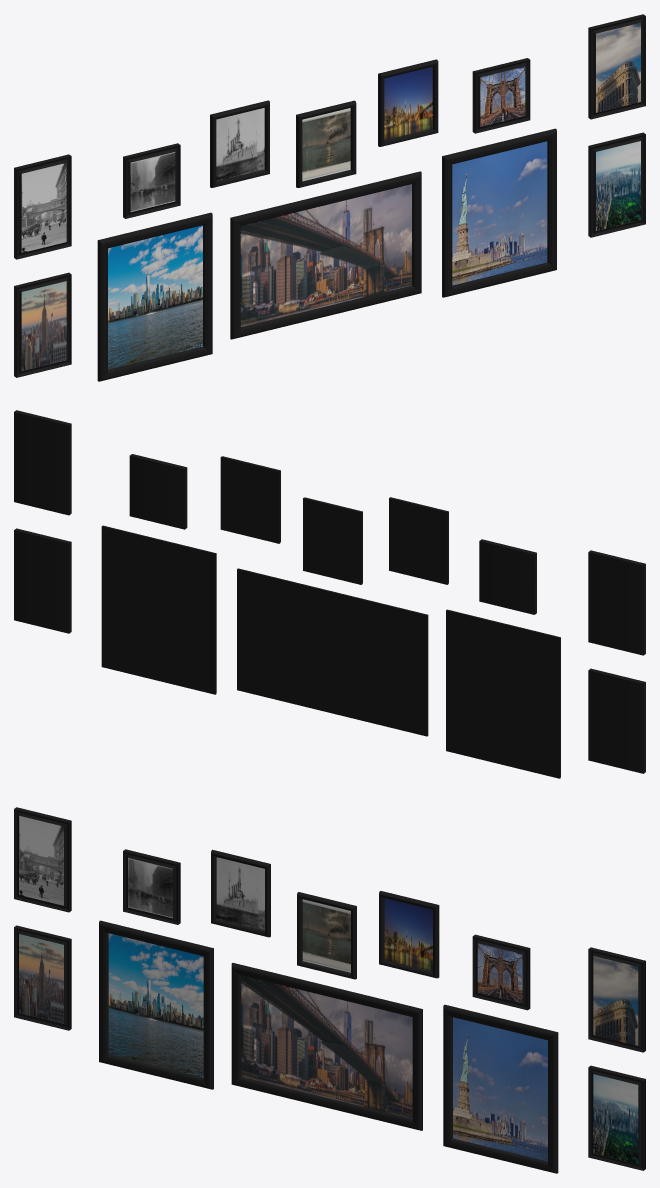
The model's file is porta_retrato_parede.fbx.
The picture shows the model from 3 angles, top to bottom: view 1: azimuth 30°, elevation 25°; view 2: azimuth 150°, elevation 25°; view 3: azimuth 330°, elevation 25°; orthographic projection.
Visible parts, largest first — view 1: DNLR Picture Frames.Shape; view 2: DNLR Picture Frames.Shape; view 3: DNLR Picture Frames.Shape.
Boxes of the visible parts, x1=… form: DNLR Picture Frames.Shape: x1=14, y1=14, x2=645, y2=381; DNLR Picture Frames.Shape: x1=14, y1=410, x2=645, y2=778; DNLR Picture Frames.Shape: x1=14, y1=807, x2=645, y2=1173.
Bounding box in the file's own units: 468 × 170 × 3.4.
Materials: 14 (12 with a texture image).
